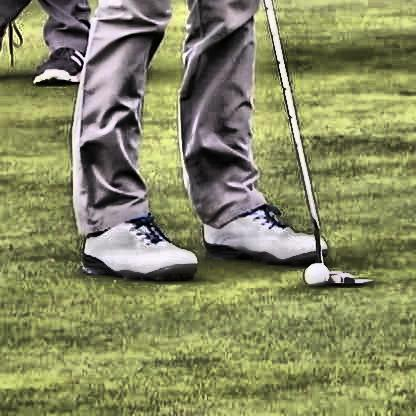golfball: (302, 261, 326, 285)
